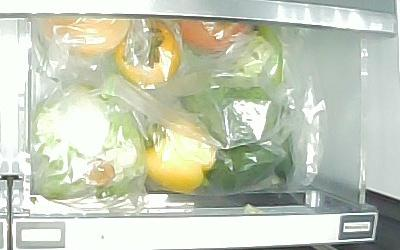apple_vinyl: (179, 20, 250, 55)
broccoli_vinyl: (174, 35, 277, 147)
grapefruit_vinyl: (39, 17, 131, 57)
lettuce_vinyl: (35, 86, 144, 202)
paprika_vinyl: (142, 115, 216, 191), (215, 141, 296, 190)
persimmon_vinyl: (118, 22, 182, 88)
